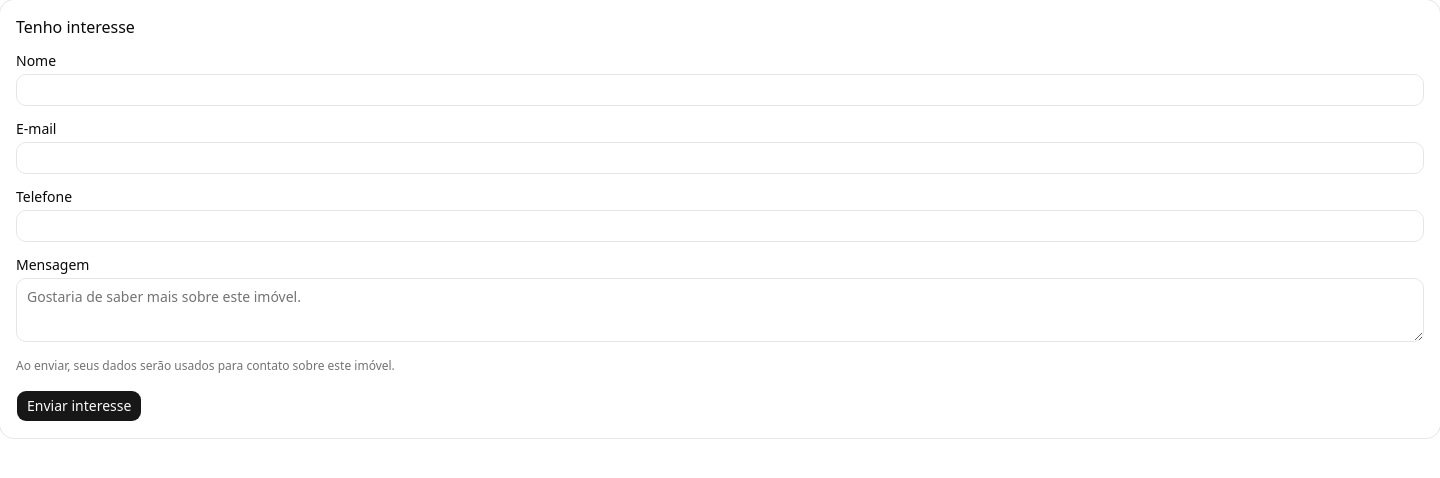
PropertyInterestForm — contact invariant › blocks submit locally when neither email nor phone is filled
This screenshot has width=1440, height=478.
Type "Maria Souza" into the field labelled "Nome" at coordinates (720, 90), box [16, 74, 1424, 106]
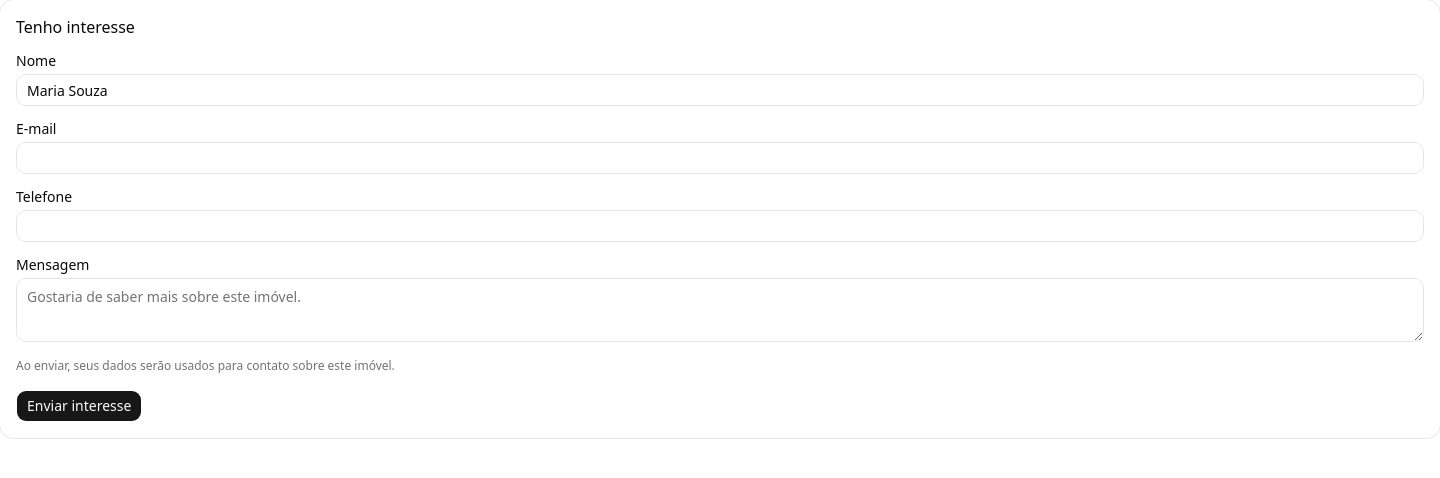
Click the button "Enviar interesse" at coordinates (79, 406), box [16, 390, 142, 422]
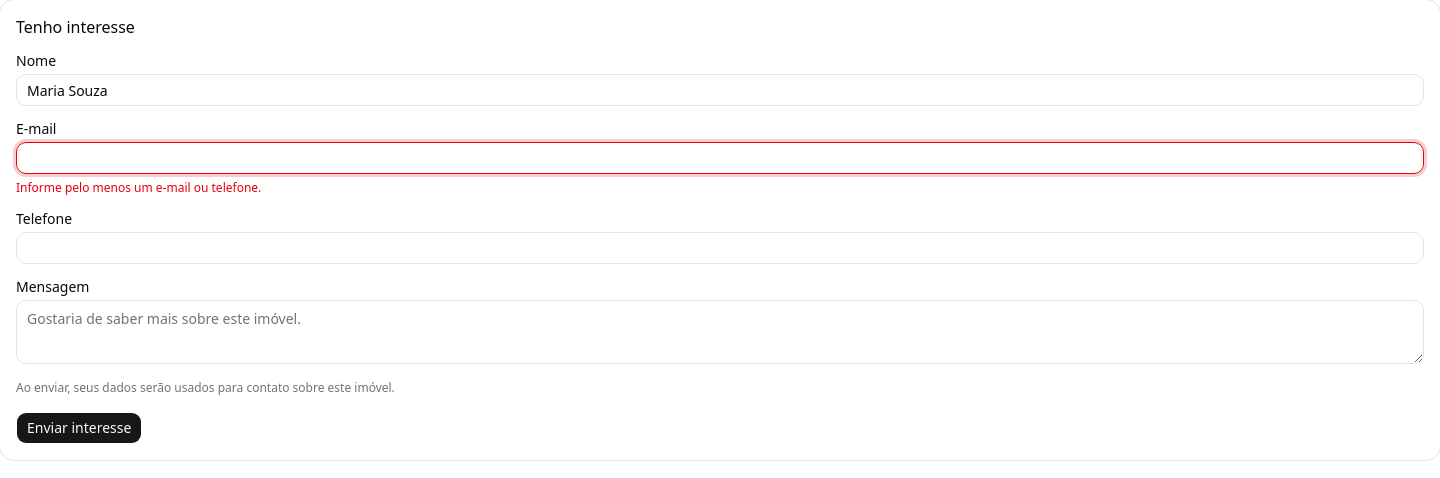
Expected: the text "Informe pelo menos um e-mail ou telefone." is shown, [16, 179, 261, 196]
